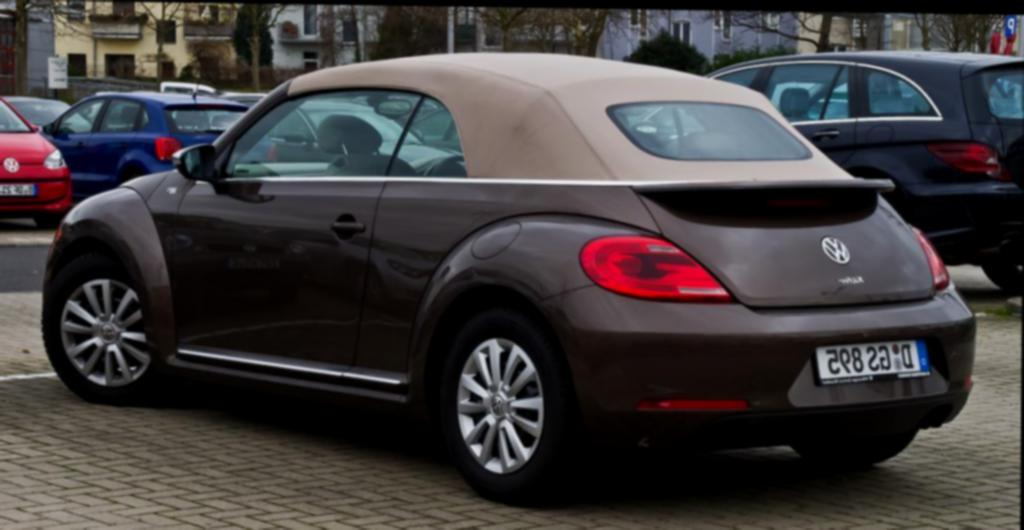License_Plate: (813, 338, 933, 386), (0, 183, 37, 194)
